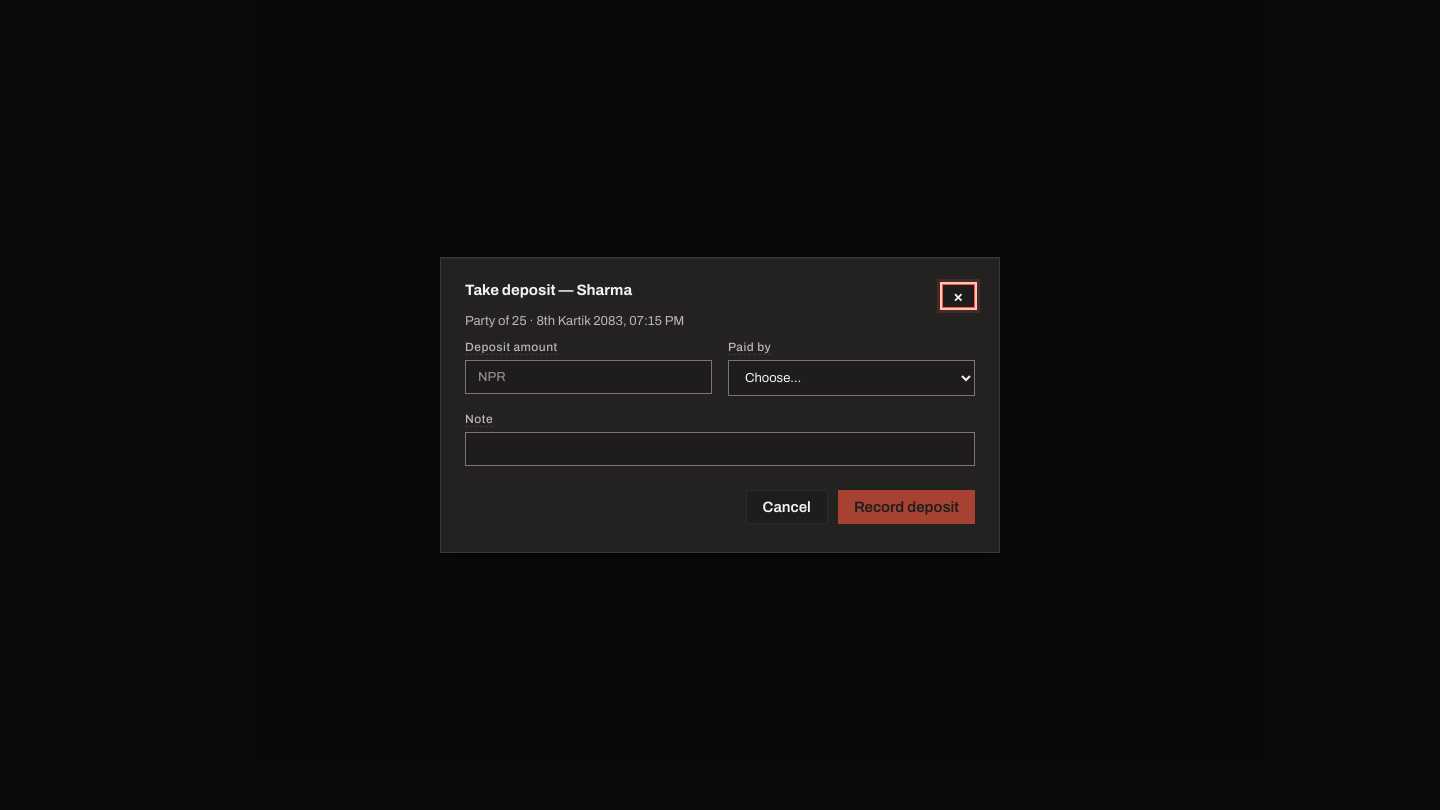
Test: a way of paying must be picked
The image size is (1440, 810).
Type "5000" into the field labelled "Deposit amount" at coordinates (588, 377), box [465, 360, 712, 394]
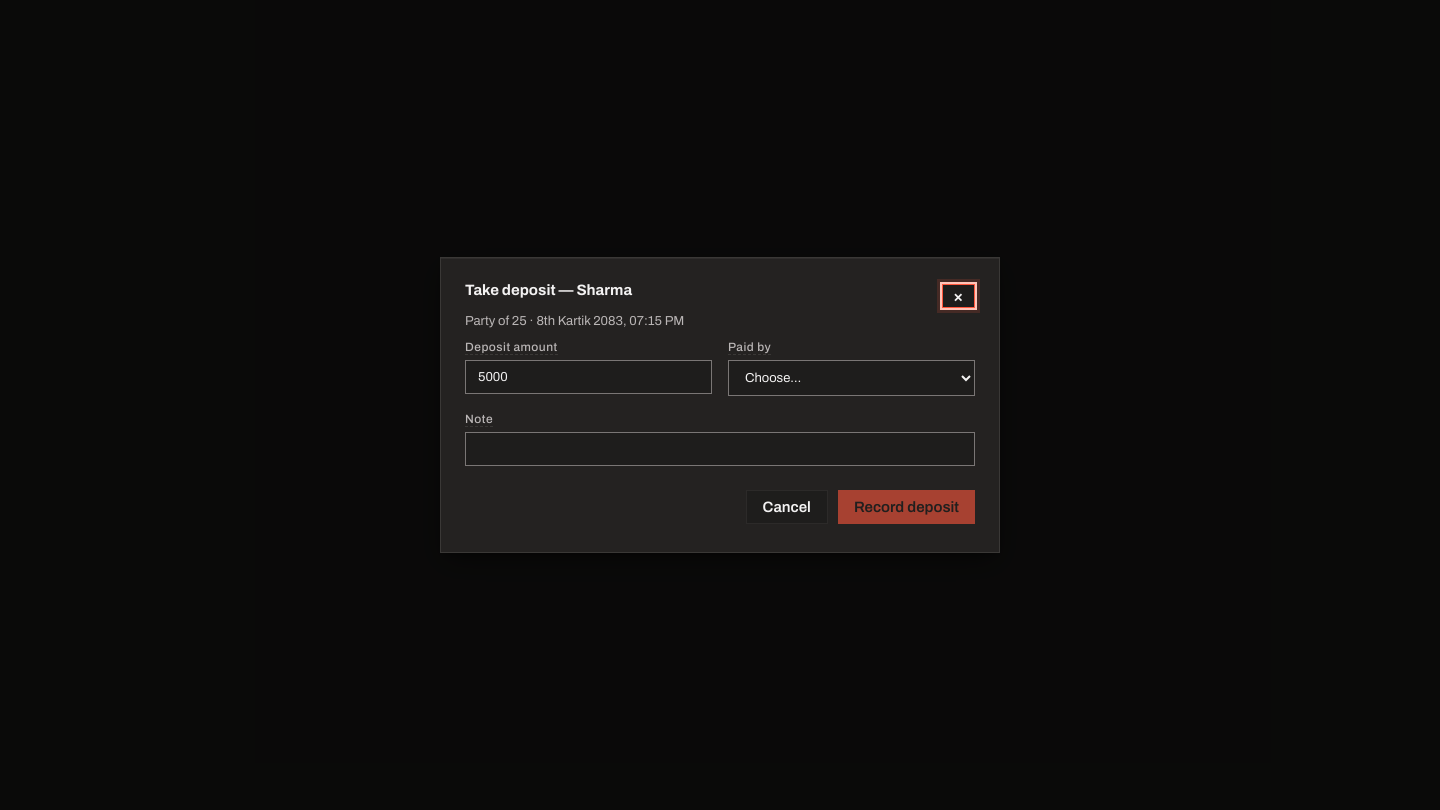
Click the button "Record deposit" at coordinates (906, 507), box [838, 490, 975, 524]
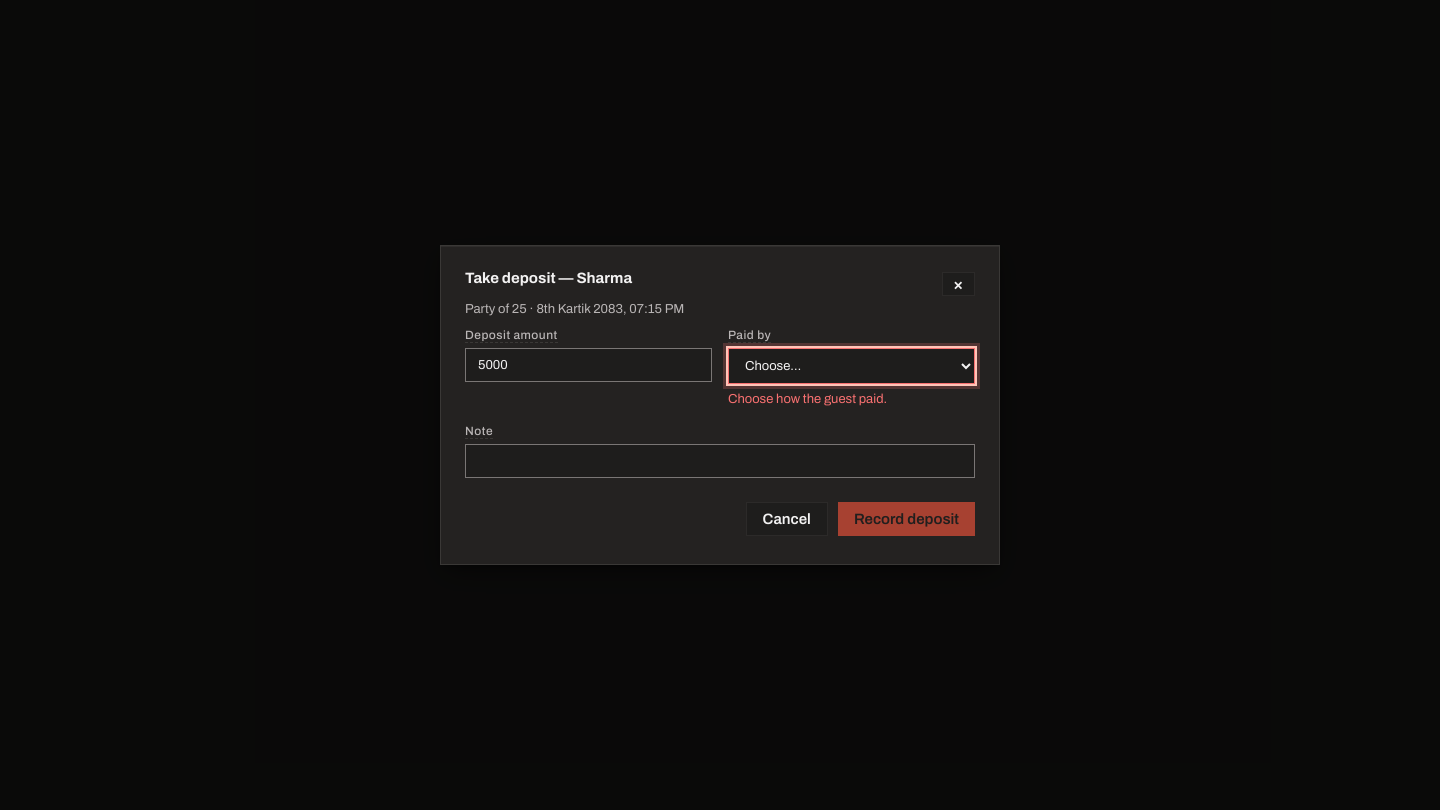
Check: the text "Choose how the guest paid." is shown, box [728, 392, 887, 406]
